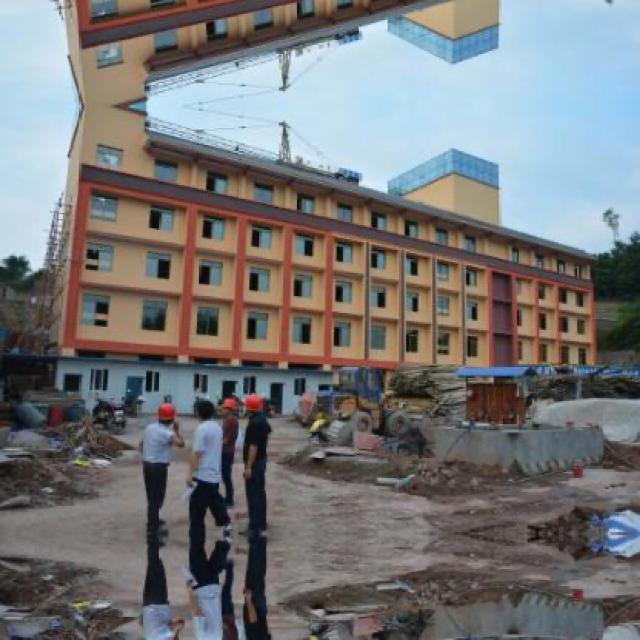con casco: (223, 384, 278, 432), (213, 388, 245, 426), (144, 394, 174, 431)
sin casco: (188, 381, 232, 428)
